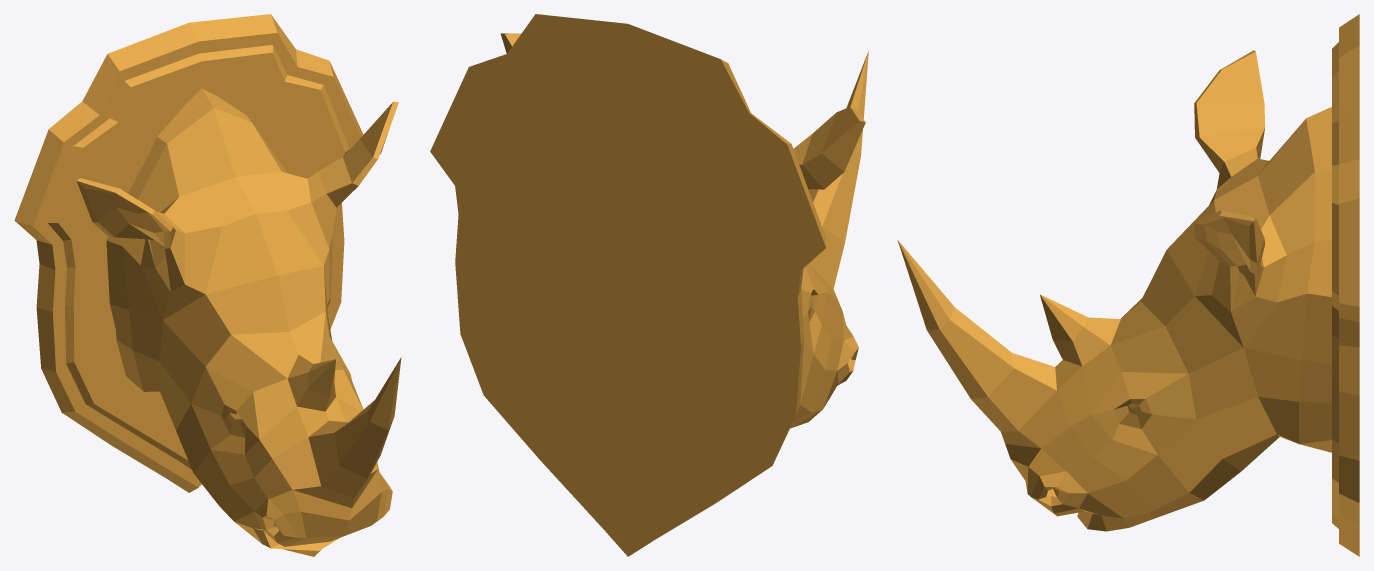
The model's file is SM_Trophy_Rhinoceros.fbx.
3 views of the same model, side by side, from view 1: azimuth 30°, elevation 25°; view 2: azimuth 150°, elevation 25°; view 3: azimuth 270°, elevation 25° (orthographic). The views are drawn at different scales.
Parts seen in each view (by area): view 1: trophy-rhinoceros; view 2: trophy-rhinoceros; view 3: trophy-rhinoceros.
Part boxes in pixels (x1,y1,x2,y2): trophy-rhinoceros: [14, 14, 401, 556]; trophy-rhinoceros: [430, 14, 868, 556]; trophy-rhinoceros: [897, 14, 1359, 556].
Bounding box in the file's own units: 1.21 × 1.56 × 1.27.
